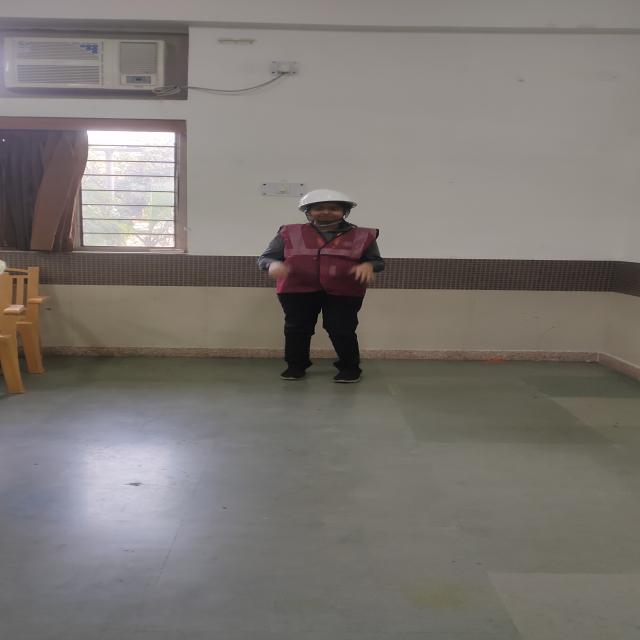safe: (259, 190, 383, 383)
